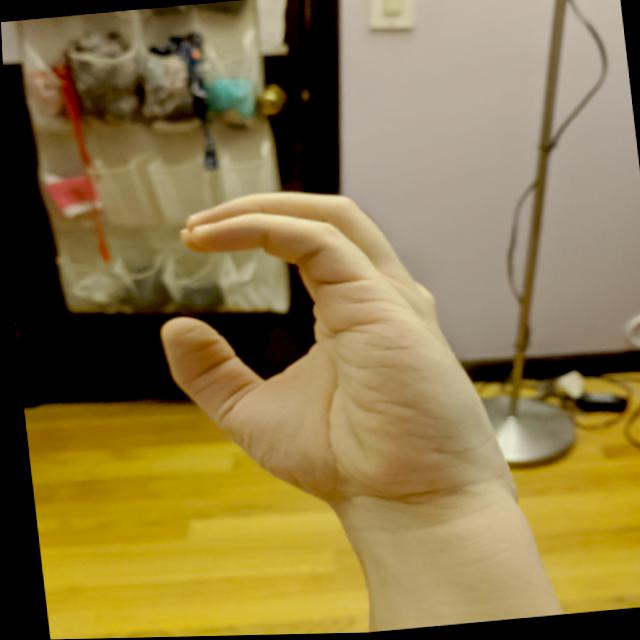C: (134, 166, 513, 534)
